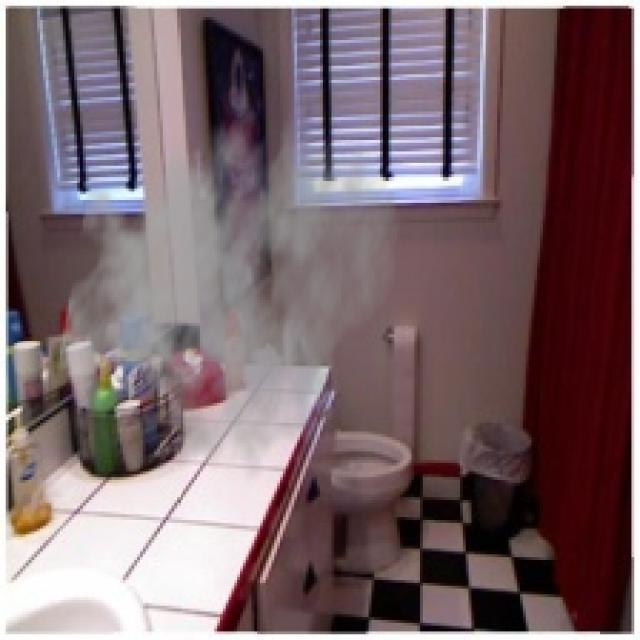smoke: (54, 80, 403, 486)
